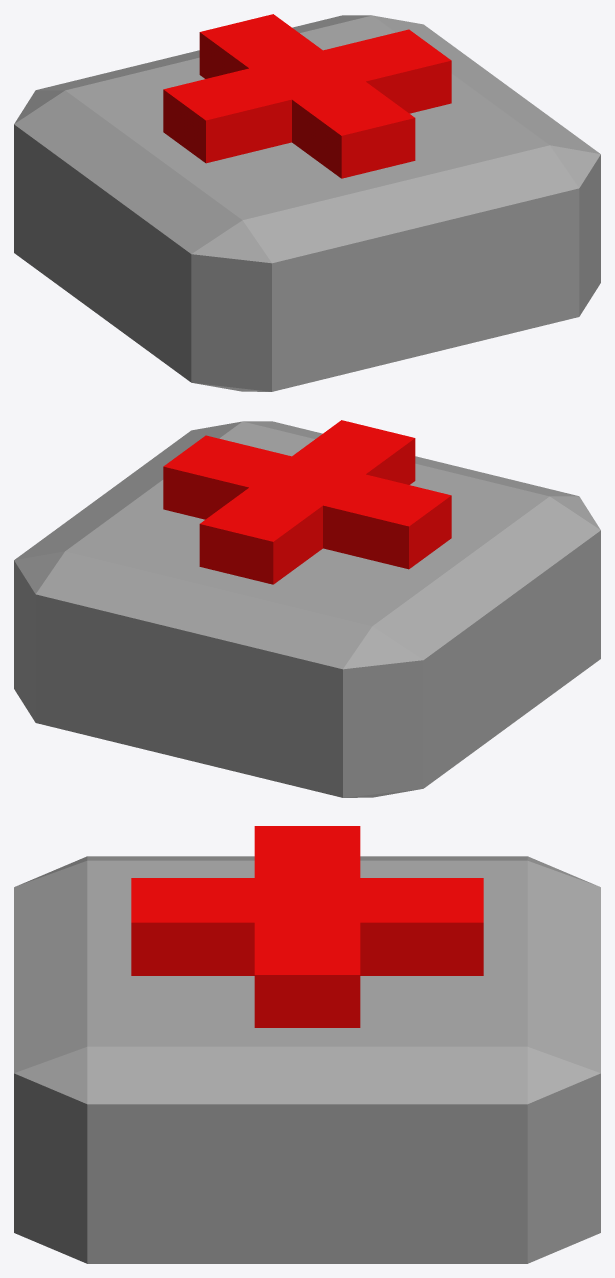
The model's file is Item_Medkit.fbx.
The picture shows the model from 3 angles, top to bottom: view 1: azimuth 30°, elevation 25°; view 2: azimuth 150°, elevation 25°; view 3: azimuth 270°, elevation 25°; orthographic projection. The views are drawn at different scales.
Visible parts, largest first — view 1: block_bevel, cross; view 2: block_bevel, cross; view 3: block_bevel, cross.
Boxes of the visible parts, left/top/right/bottom form: block_bevel: left=14, top=15, right=600, bottom=391; cross: left=163, top=14, right=451, bottom=178; block_bevel: left=14, top=421, right=600, bottom=797; cross: left=163, top=420, right=451, bottom=584; block_bevel: left=14, top=856, right=600, bottom=1263; cross: left=131, top=826, right=483, bottom=1027.
Size of the model in its own units: 10 by 5 by 10.
